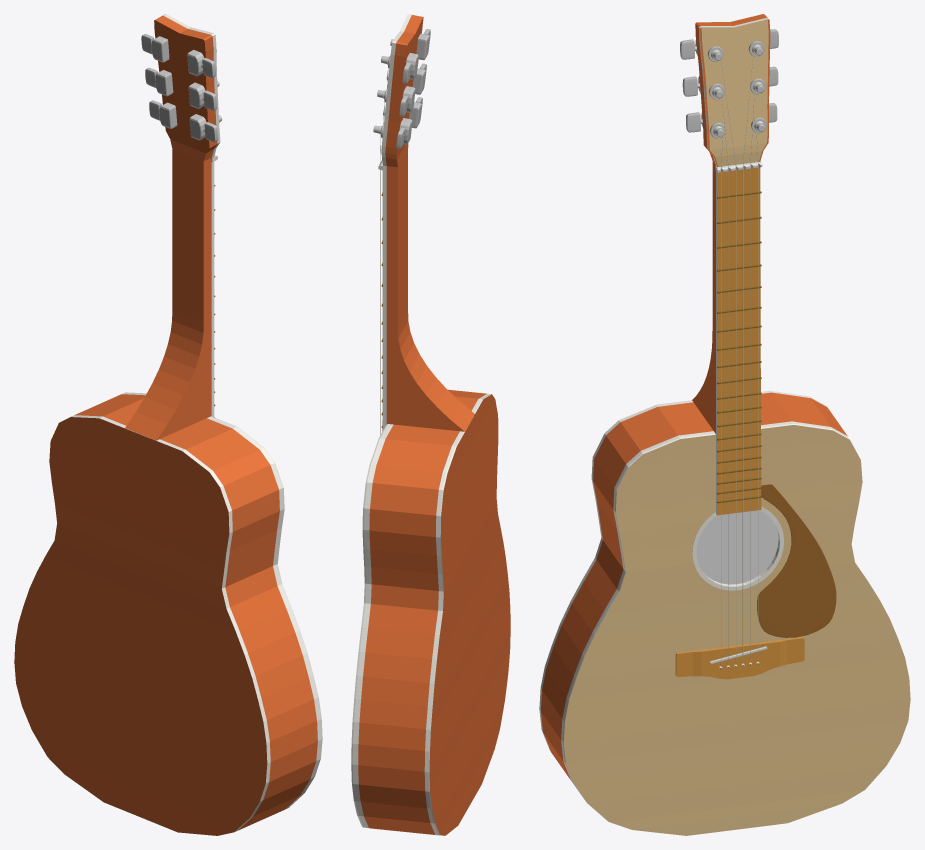
The model's file is guitar.fbx.
3 renders of one model, left to right at view 1: azimuth 30°, elevation 25°; view 2: azimuth 150°, elevation 25°; view 3: azimuth 270°, elevation 25°, orthographic. The views are drawn at different scales.
Parts seen in each view (by area): view 1: Plane, Plane.003, Cube.004, Plane.001; view 2: Plane, Plane.003, Cube.004, Plane.001, Circle.001; view 3: Plane, Plane.001, Plane.003, Plane.005, Circle.001, Plane.002, Cube.009, Cube.004, Cylinder.011.
Part boxes in pixels (box(x1,y1,x2,y2)): Plane: box(14, 392, 322, 835); Plane.003: box(125, 14, 220, 440); Cube.004: box(141, 34, 218, 142); Plane.001: box(211, 155, 217, 416); Plane: box(351, 389, 510, 835); Plane.003: box(381, 14, 474, 431); Cube.004: box(396, 29, 430, 148); Plane.001: box(378, 160, 386, 430); Circle.001: box(379, 56, 388, 434); Plane: box(539, 390, 910, 835); Plane.001: box(715, 161, 762, 515); Plane.003: box(692, 14, 770, 433); Plane.005: box(757, 484, 836, 637); Circle.001: box(712, 45, 764, 666); Plane.002: box(675, 637, 804, 679); Cube.009: box(717, 191, 761, 503); Cube.004: box(680, 29, 778, 132); Cylinder.011: box(707, 41, 766, 138).
Size of the model in its own units: 26.07 by 126 by 52.71.
